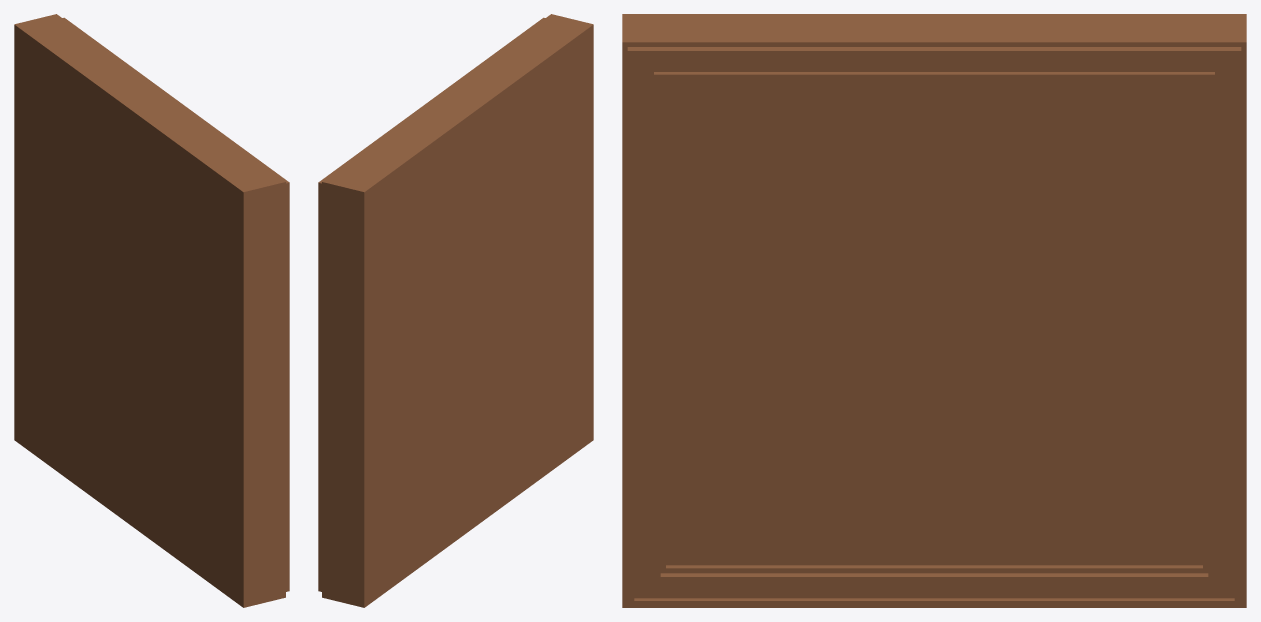
File: Photo Frame3.fbx
3 renders of one model, left to right at view 1: azimuth 30°, elevation 25°; view 2: azimuth 150°, elevation 25°; view 3: azimuth 270°, elevation 25°, orthographic. The views are drawn at different scales.
Visible parts, largest first — view 1: Cube.002; view 2: Cube.002; view 3: Cube.002.
Part boxes in pixels (<box>): Cube.002: <box>14,14,289,607</box>; Cube.002: <box>318,14,593,607</box>; Cube.002: <box>622,14,1246,607</box>.
Bounding box in the file's own units: 9.16 × 75.37 × 75.37.
